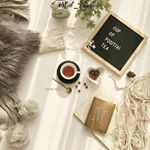cups: (59, 61, 83, 79)
